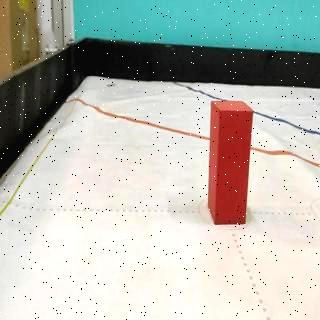redbox: (208, 100, 254, 223)
